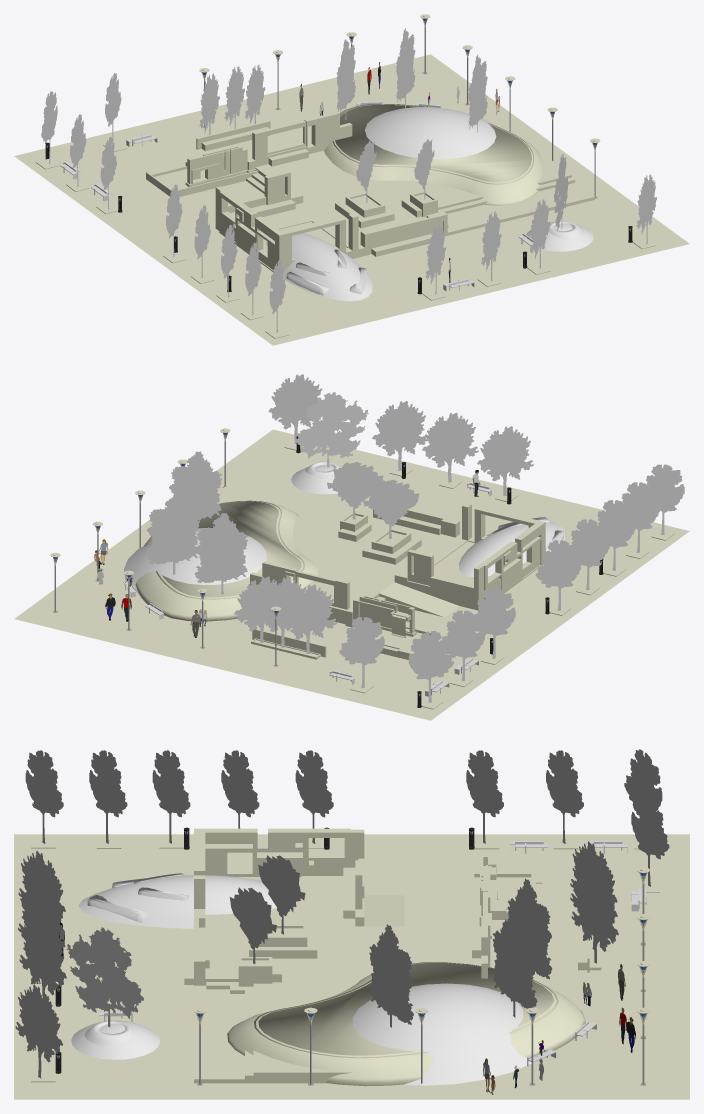
3 views of the same model, one above another, from view 1: azimuth 30°, elevation 25°; view 2: azimuth 150°, elevation 25°; view 3: azimuth 270°, elevation 25° (orthographic). The views are drawn at different scales.
Parts seen in each view (by area): view 1: Layer0_001, Group_003, Group_005, Group_001, Group_069, Group_068, Group_067, Group_002, Tree_2D_02_007, Tree_2D_02_004, Tree_2D_02_005, Tree_2D_02_006 (+15 smaller); view 2: Layer0_001, Group_003, Component#7_001, Group_069, Group_068, Group_005, Group_067, Tree_2D_02_005, Tree_2D_02_003, Tree_2D_02_004, Tree_2D_02_006, Tree_2D_02_007 (+15 smaller); view 3: Layer0_001, Group_003, Group_005, Group_001, Component#7_001, Group_067, Group_068, Tree_2D_02_007, Tree_2D_02_001, Tree_2D_02_006, Group_069, Group_002 (+17 smaller).
Part boxes in pixels (x1,y1,x2,y2): Layer0_001: (14,54,689,345); Group_003: (324,104,543,205); Group_005: (365,107,496,159); Group_001: (266,230,372,301); Group_069: (336,39,355,119); Group_068: (396,28,415,108); Group_067: (468,55,487,132); Group_002: (526,221,593,251); Tree_2D_02_007: (636,174,656,244); Tree_2D_02_004: (425,224,445,294); Tree_2D_02_005: (481,211,501,281); Tree_2D_02_006: (530,199,550,268); Layer0_001: (14,429,689,720); Group_003: (135,500,318,621); Component#7_001: (294,392,368,467); Group_069: (194,513,247,594); Group_068: (146,494,199,574); Group_005: (124,528,266,594); Group_067: (169,451,221,520); Tree_2D_02_005: (422,412,478,482); Tree_2D_02_003: (280,584,336,653); Tree_2D_02_004: (477,426,533,495); Tree_2D_02_006: (372,401,427,470); Tree_2D_02_007: (268,374,322,443); Layer0_001: (14,828,689,1099); Group_003: (227,962,585,1086); Group_005: (352,983,533,1085); Group_001: (78,875,276,928); Component#7_001: (66,927,143,1026); Group_067: (369,924,413,1027); Group_068: (492,911,537,1017); Tree_2D_02_007: (15,984,62,1078); Tree_2D_02_001: (571,874,618,963); Tree_2D_02_006: (19,917,66,999); Group_069: (507,878,552,979); Group_002: (71,1020,160,1059).
Size of the model in its own units: 11335 by 2691 by 12199.
